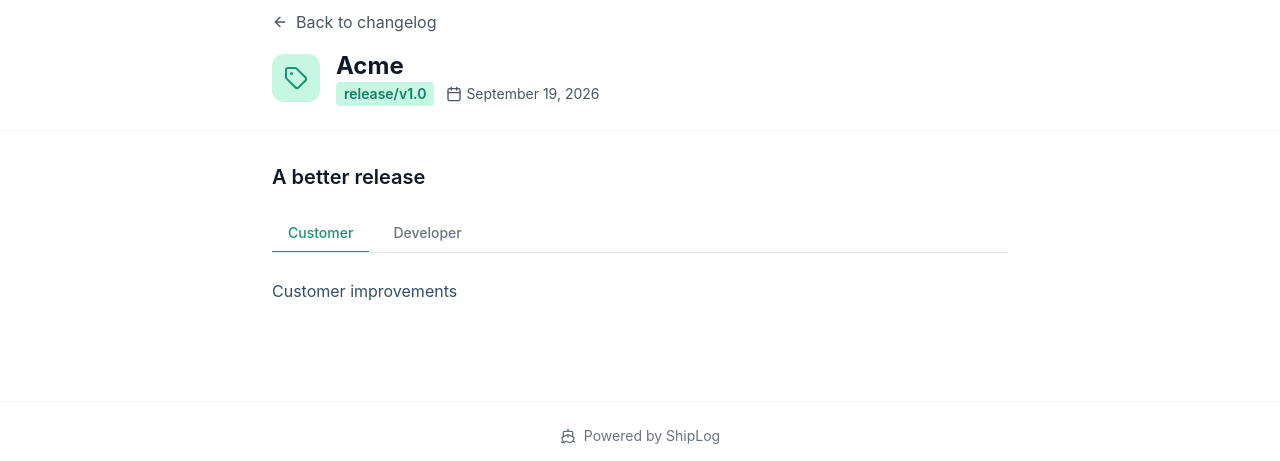
it: renders the API audience object and switches between available audiences
Check: the text "Customer improvements" is shown, box x1=272 y1=281 x2=457 y2=301
Click the tab "developer": (428, 234) x1=377 y1=215 x2=478 y2=253
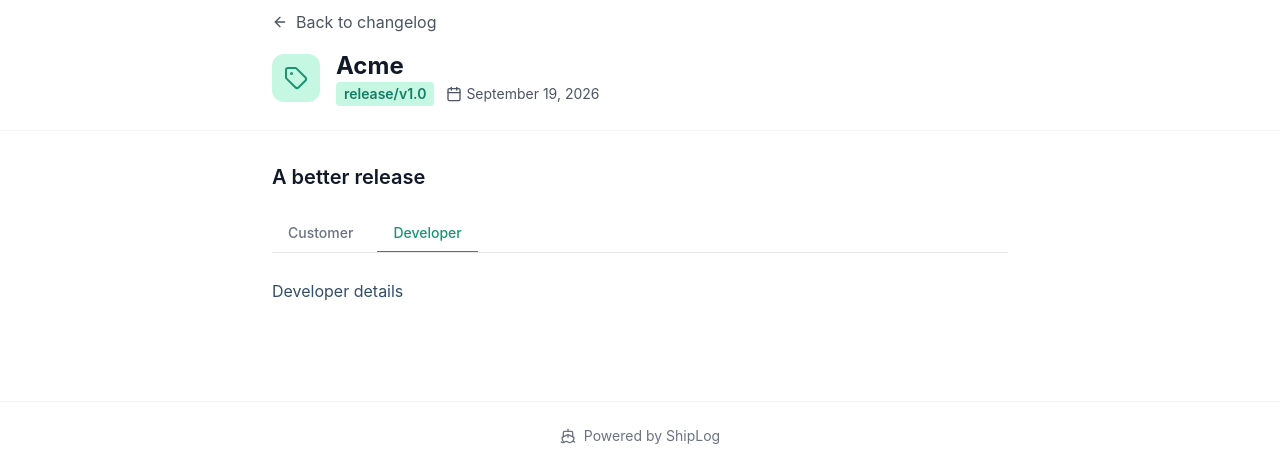
Check: the text "Developer details" is shown, box x1=272 y1=281 x2=403 y2=301
